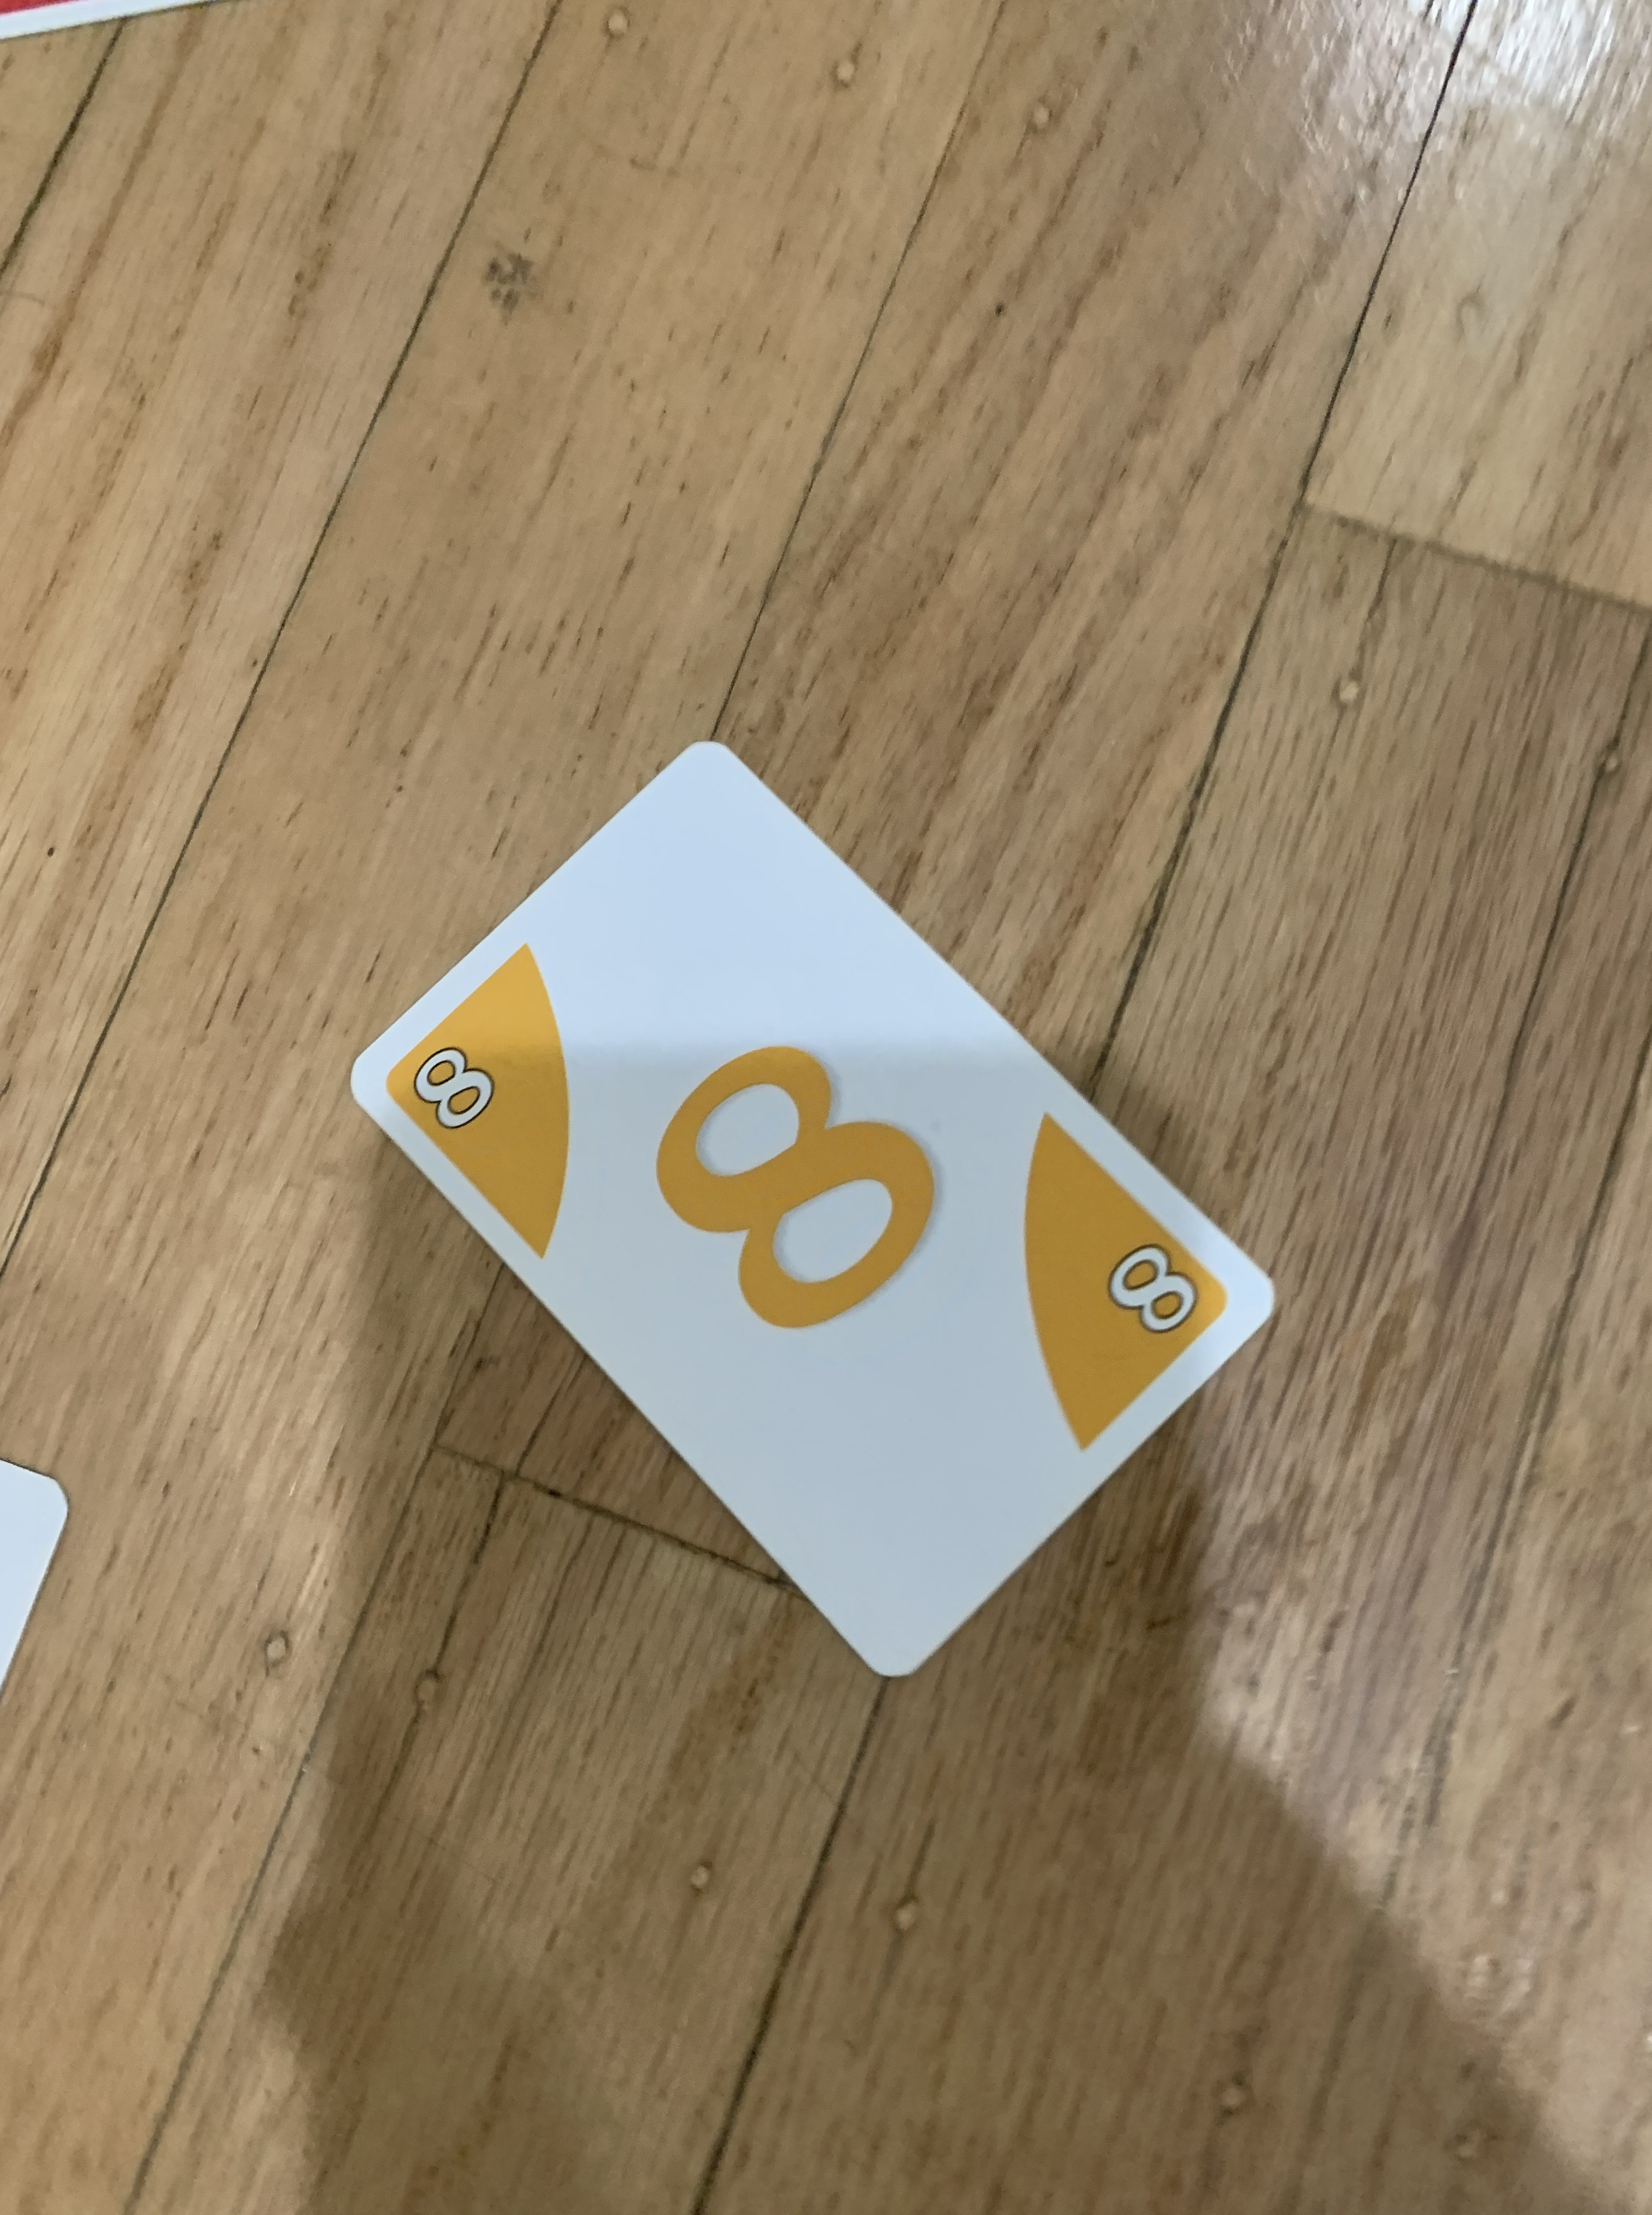eight: (331, 733, 1281, 1698)
